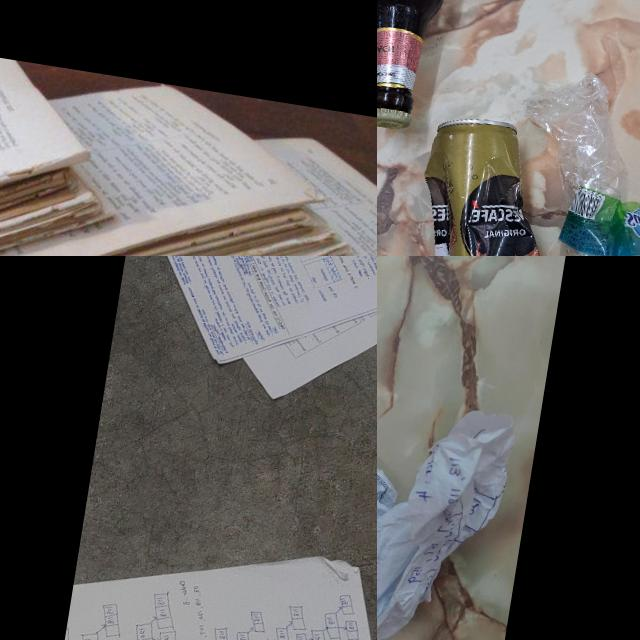garrafa de vidro: (377, 0, 467, 131)
garrafa plástica: (499, 63, 640, 256)
lata: (398, 105, 577, 256)
papel: (0, 36, 376, 256), (30, 101, 377, 256), (107, 256, 377, 428), (377, 368, 525, 640), (50, 517, 377, 640), (0, 23, 137, 256)
